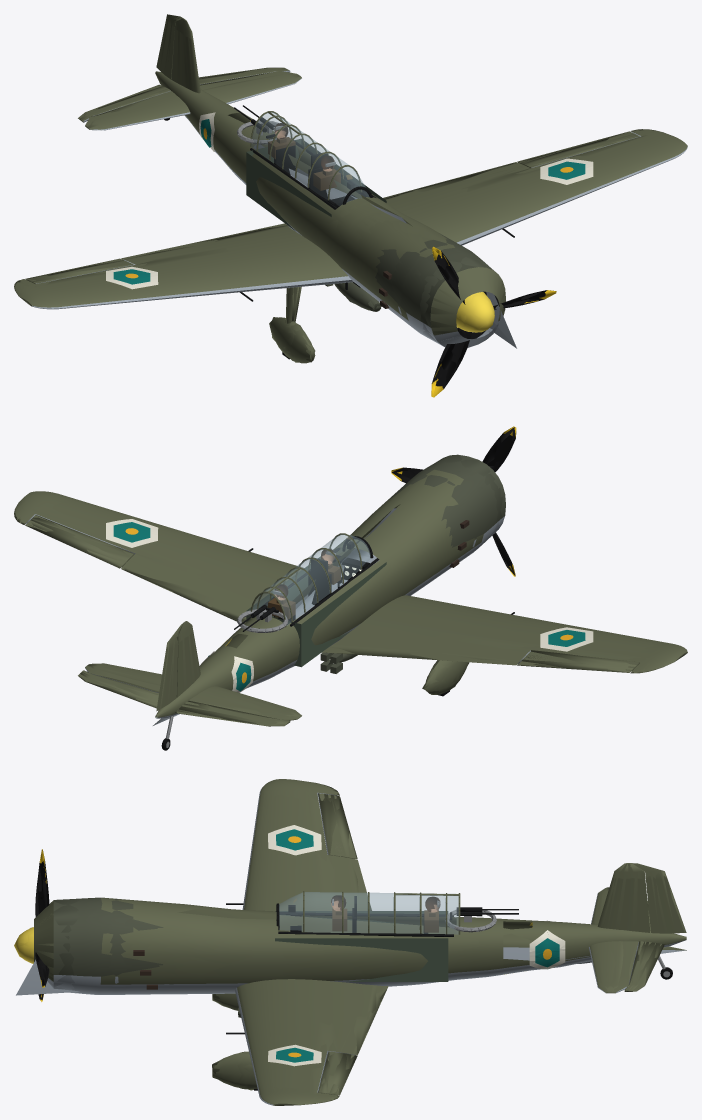
Rendered from Kitewing.glb.
3 renders of one model, top to bottom at view 1: azimuth 30°, elevation 25°; view 2: azimuth 150°, elevation 25°; view 3: azimuth 270°, elevation 25°, orthographic.
Visible parts, largest first — view 1: L0_Fuselage, L2_WingR, L1_Fuselage, L2_WingL, L1_WingL, L0_Glass, L1_WingR, L0_Interior, L2_Tail, L0_WingR, L1_Tail, L0_WingL (+12 smaller); view 2: L0_Fuselage, L1_Fuselage, L2_WingR, L2_WingL, L1_WingL, L1_WingR, L0_Glass, L0_Interior, L0_WingR, L2_Tail, L0_WingL, L1_Tail (+11 smaller); view 3: L0_Fuselage, L1_Fuselage, L2_WingL, L2_WingR, L0_Glass, L1_WingL, L2_Fuselage, L0_Interior, L1_WingR, L0_Tail, L0_WingR, L2_Tail (+13 smaller).
Part boxes in pixels (bbox=[...]): L0_Fuselage: bbox=[155, 71, 505, 347]; L2_WingR: bbox=[14, 225, 351, 309]; L1_Fuselage: bbox=[156, 71, 505, 347]; L2_WingL: bbox=[383, 129, 687, 244]; L1_WingL: bbox=[383, 129, 686, 245]; L0_Glass: bbox=[252, 113, 368, 205]; L1_WingR: bbox=[15, 223, 347, 308]; L0_Interior: bbox=[246, 138, 386, 230]; L2_Tail: bbox=[85, 18, 301, 130]; L0_WingR: bbox=[15, 223, 353, 309]; L1_Tail: bbox=[85, 19, 301, 130]; L0_WingL: bbox=[392, 129, 687, 244]; L0_Fuselage: bbox=[155, 454, 505, 718]; L1_Fuselage: bbox=[155, 454, 502, 718]; L2_WingR: bbox=[326, 595, 687, 673]; L2_WingL: bbox=[14, 491, 303, 622]; L1_WingL: bbox=[15, 491, 276, 624]; L1_WingR: bbox=[322, 605, 686, 673]; L0_Glass: bbox=[253, 535, 370, 623]; L0_Interior: bbox=[246, 541, 386, 667]; L0_WingR: bbox=[322, 609, 686, 673]; L2_Tail: bbox=[85, 621, 301, 720]; L0_WingL: bbox=[15, 491, 277, 611]; L1_Tail: bbox=[85, 622, 301, 719]; L0_Fuselage: bbox=[34, 891, 686, 994]; L1_Fuselage: bbox=[34, 892, 686, 994]; L2_WingL: bbox=[226, 979, 387, 1105]; L2_WingR: bbox=[226, 779, 371, 911]; L0_Glass: bbox=[279, 892, 458, 933]; L1_WingL: bbox=[229, 980, 388, 1105]; L2_Fuselage: bbox=[16, 899, 686, 995]; L0_Interior: bbox=[275, 896, 448, 981]; L1_WingR: bbox=[226, 779, 370, 910]; L0_Tail: bbox=[589, 863, 646, 992]; L0_WingR: bbox=[226, 779, 367, 910]; L2_Tail: bbox=[591, 863, 645, 993].
Size of the model in its own units: 13.53 by 3.68 by 11.87.
